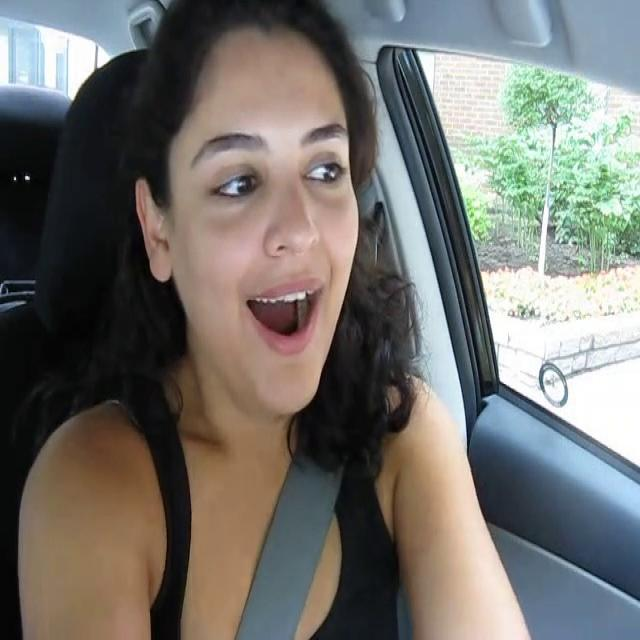open: (245, 275, 326, 358)
